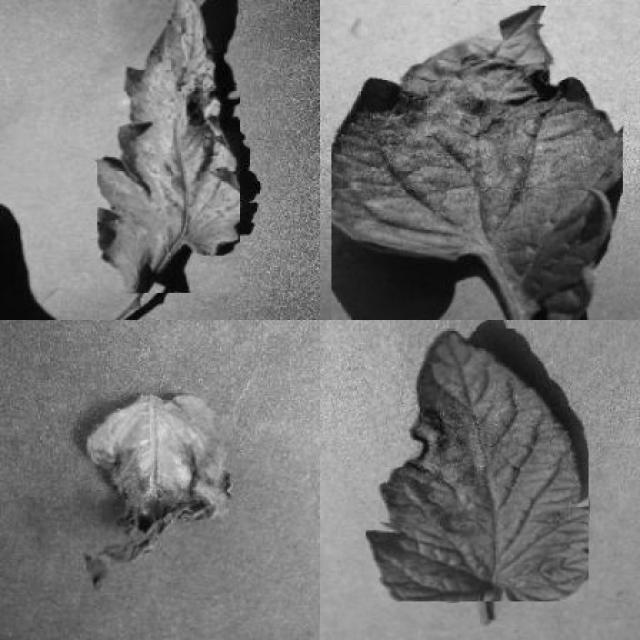Late Blight: (331, 6, 623, 320), (366, 328, 588, 602), (83, 394, 234, 594)
Septoria: (97, 0, 240, 293)
